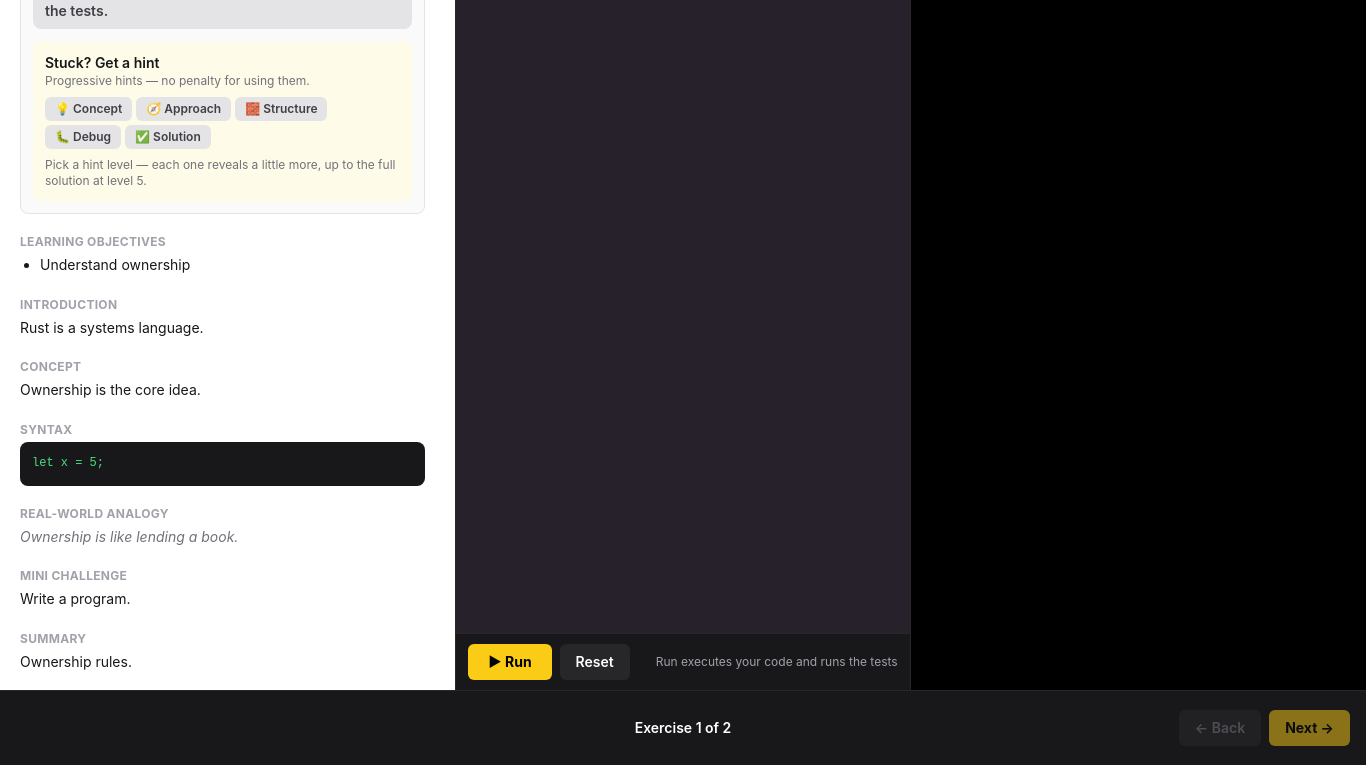
Scenario: LessonWorkspacePage codecademy-style workspace › shows an Explain error strip when output contains an error
(page scrolled)
expect the text "Exercise 1 of 2" is shown: met, box [635, 719, 731, 736]
Click the button "▶ Run". click: click(510, 662)
box: [468, 644, 552, 680]
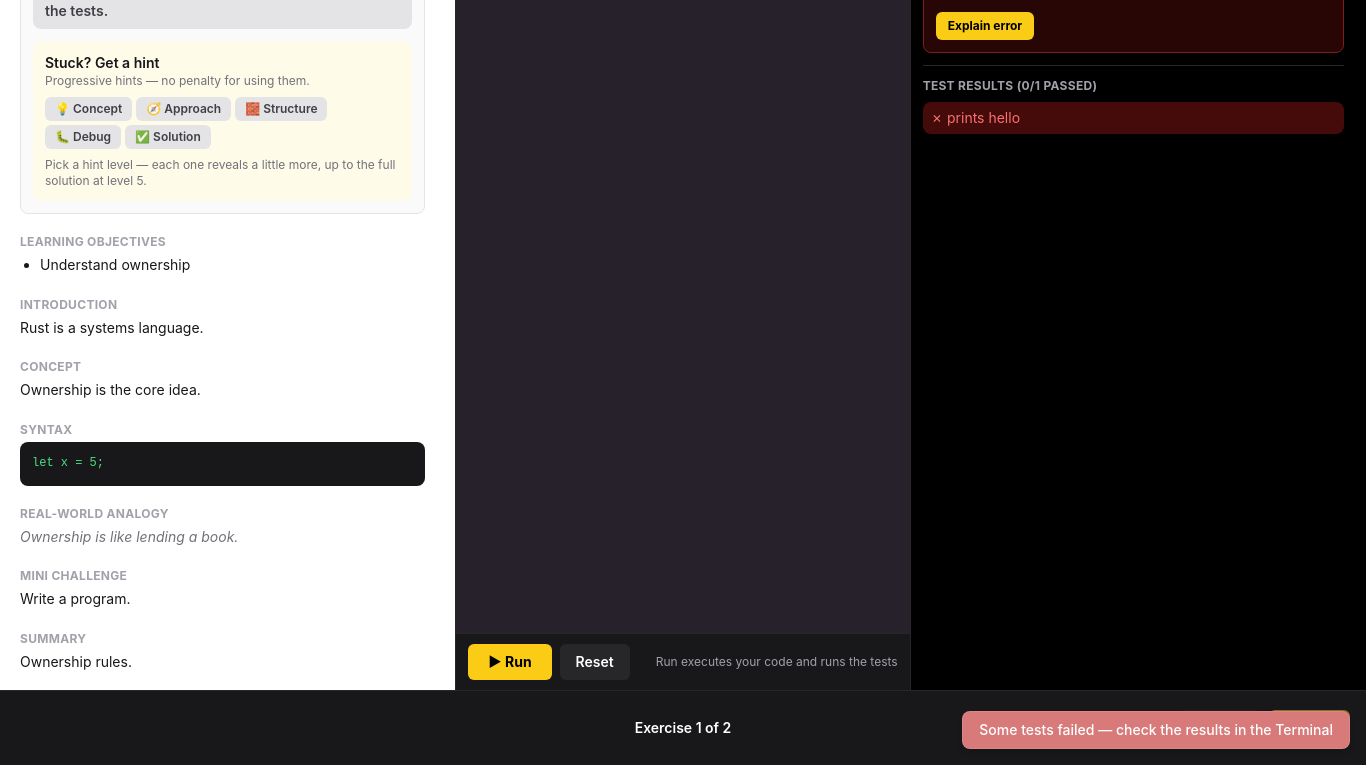
expect the button "Explain error" is shown: met
Click the button "Explain error". click: click(985, 26)
box: [936, 12, 1034, 40]
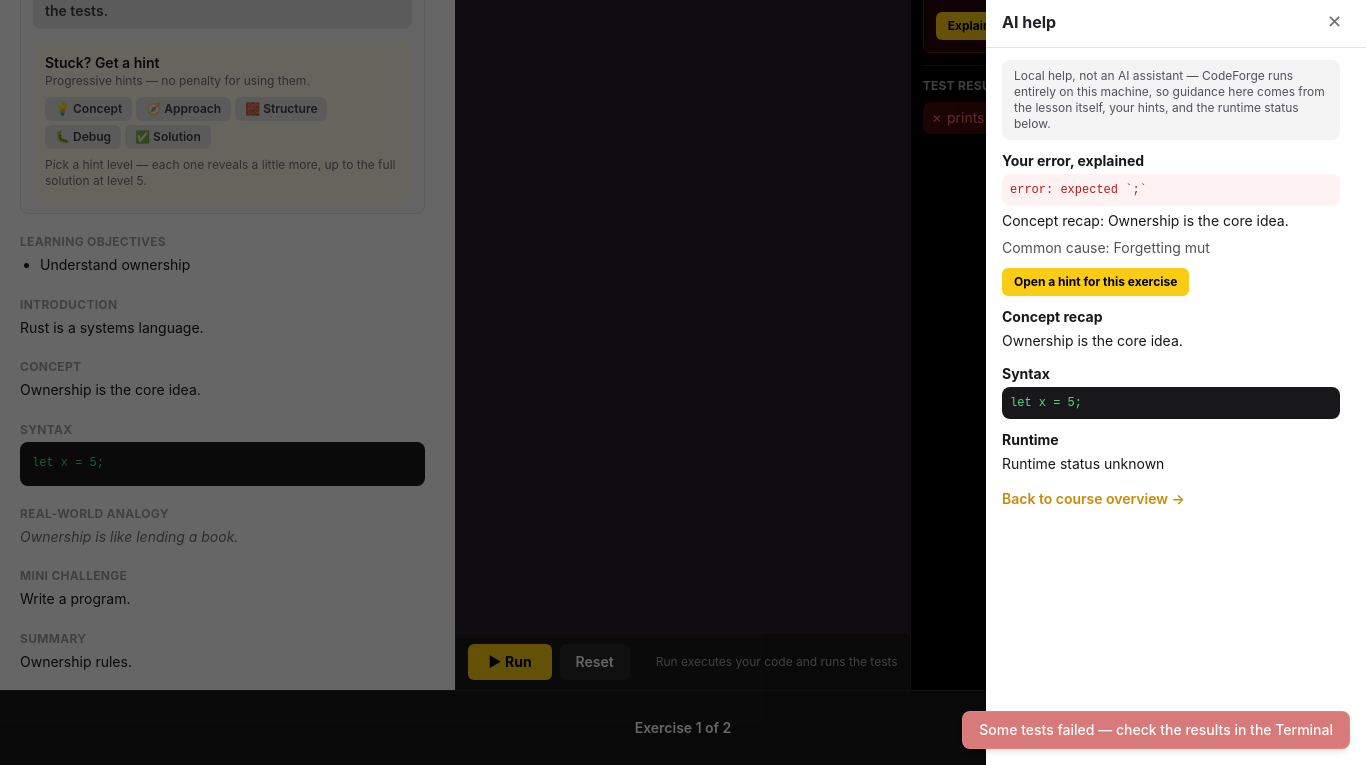
expect the heading "Your error, explained" is shown: met, box [1002, 152, 1144, 169]
expect the text "error: expected `;`" is shown: met, box [1002, 174, 1340, 206]
